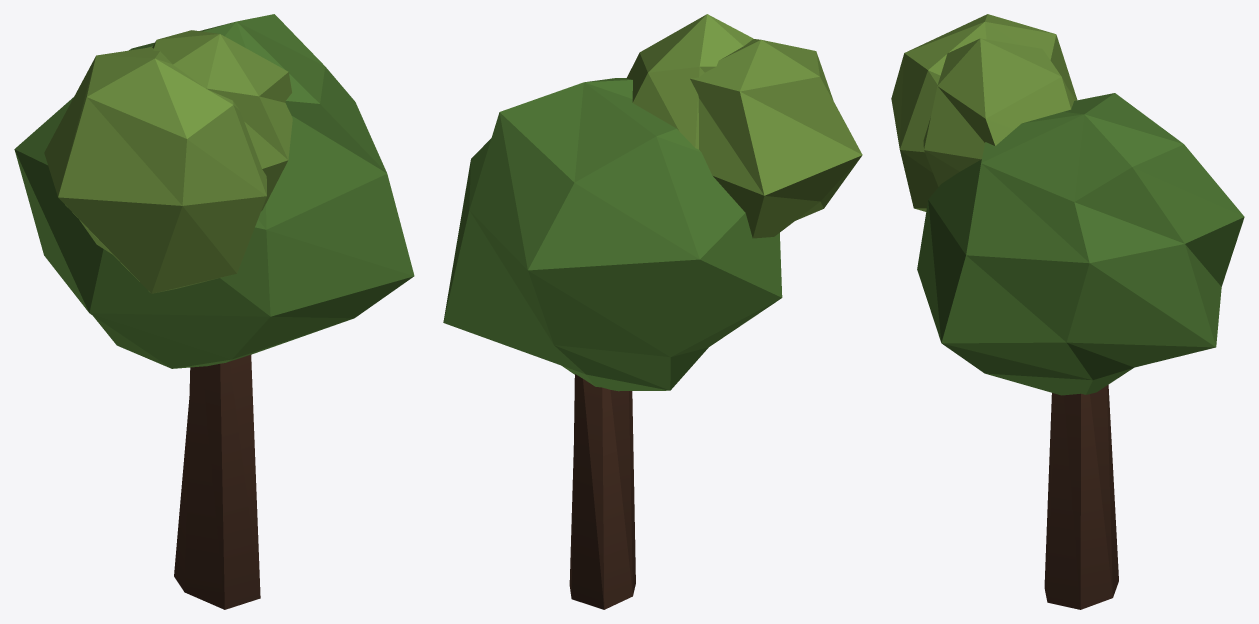
The model's file is tree_green_3.glb.
The picture shows the model from 3 angles, left to right: view 1: azimuth 30°, elevation 25°; view 2: azimuth 150°, elevation 25°; view 3: azimuth 270°, elevation 25°; orthographic projection. The views are drawn at different scales.
Visible parts, largest first — view 1: tree_green_3; view 2: tree_green_3; view 3: tree_green_3.
Boxes of the visible parts, x1,y1,x2,y2 form: tree_green_3: (14, 14, 414, 609); tree_green_3: (443, 14, 862, 609); tree_green_3: (891, 14, 1244, 609).
Bounding box in the file's own units: 0.6933 × 1.11 × 0.669.
